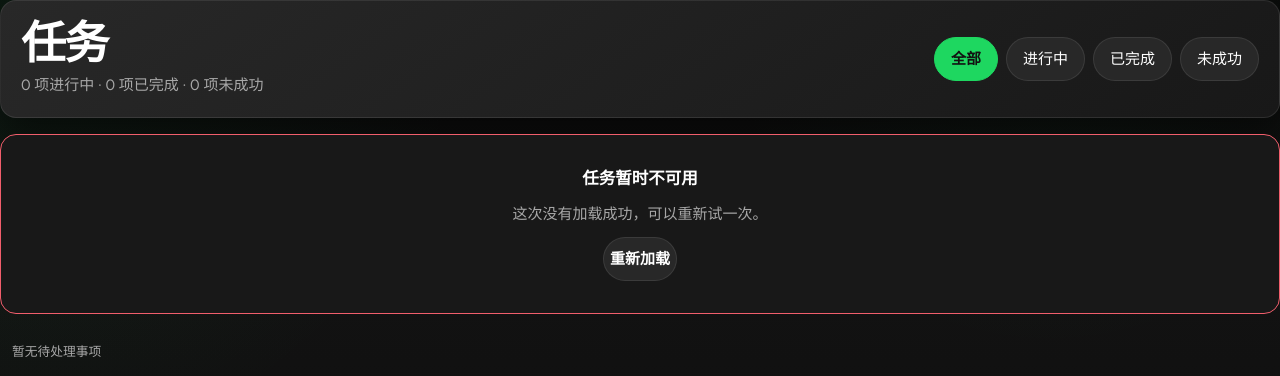
Scenario: TaskList F149 Tasks v2 › 可恢复错误提供重试，并在成功后恢复任务卡片
Expected: the message "任务暂时不可用" is shown, [0,134,1279,314]
Step 1. Click the button "重新加载" → click(640, 259), box [603,237,677,281]
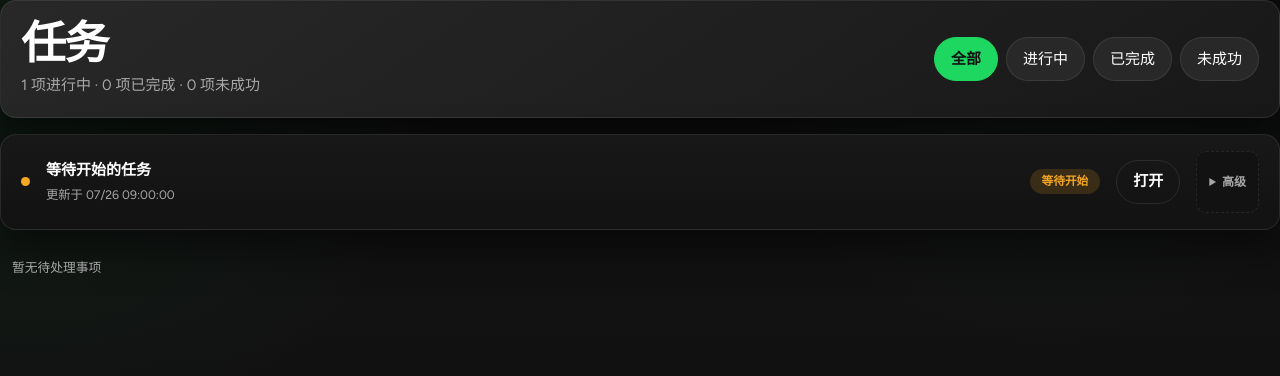
Now the text "等待开始的任务" is shown, box [46,161,151,179]
